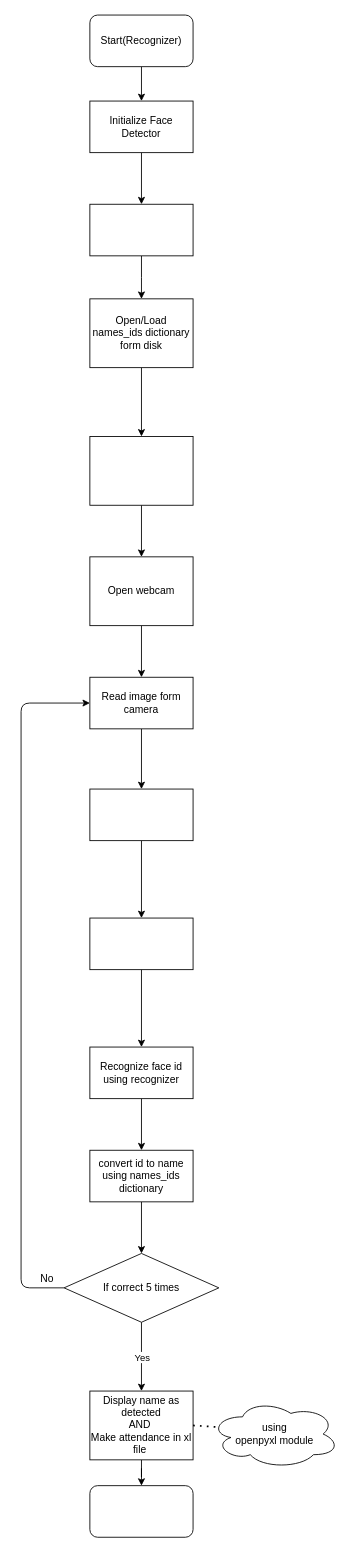
The diagram is 354 pixels wide and 1552 high, and some of its shapes have lost their labels. The shapes that lost their labels are listed below. From the top down, each one's centre as x and y in pixels, then its label:
the point at 141,229: Create recognizer AND Read trained data
the point at 141,470: Reverse order {lebel:id} => {id:lebel}
the point at 141,814: Convert to gray
the point at 141,943: Detect face
the point at 141,1511: END
